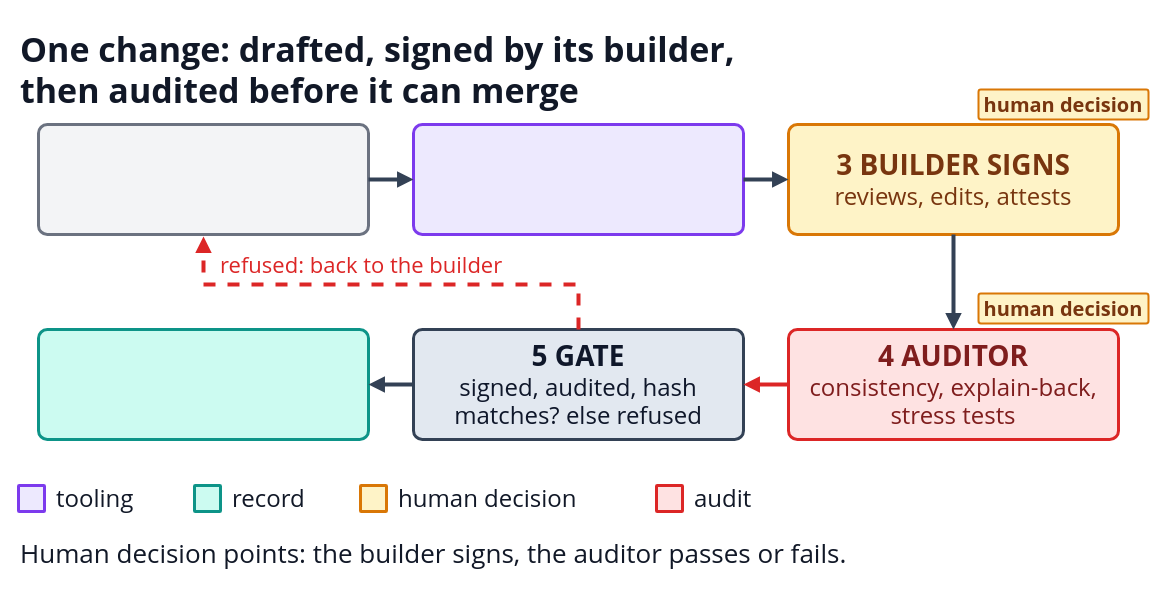
Some shapes in this 1167 by 592 pixel diagram are drawn without their labels. Each missing label, with the centre of its shape:
1 BUILDER changes the code: point 203,179
2 LEDGER drafts record, diagram, spec link and hash: point 578,179
6 MERGE record stays in the repo: point 203,384
